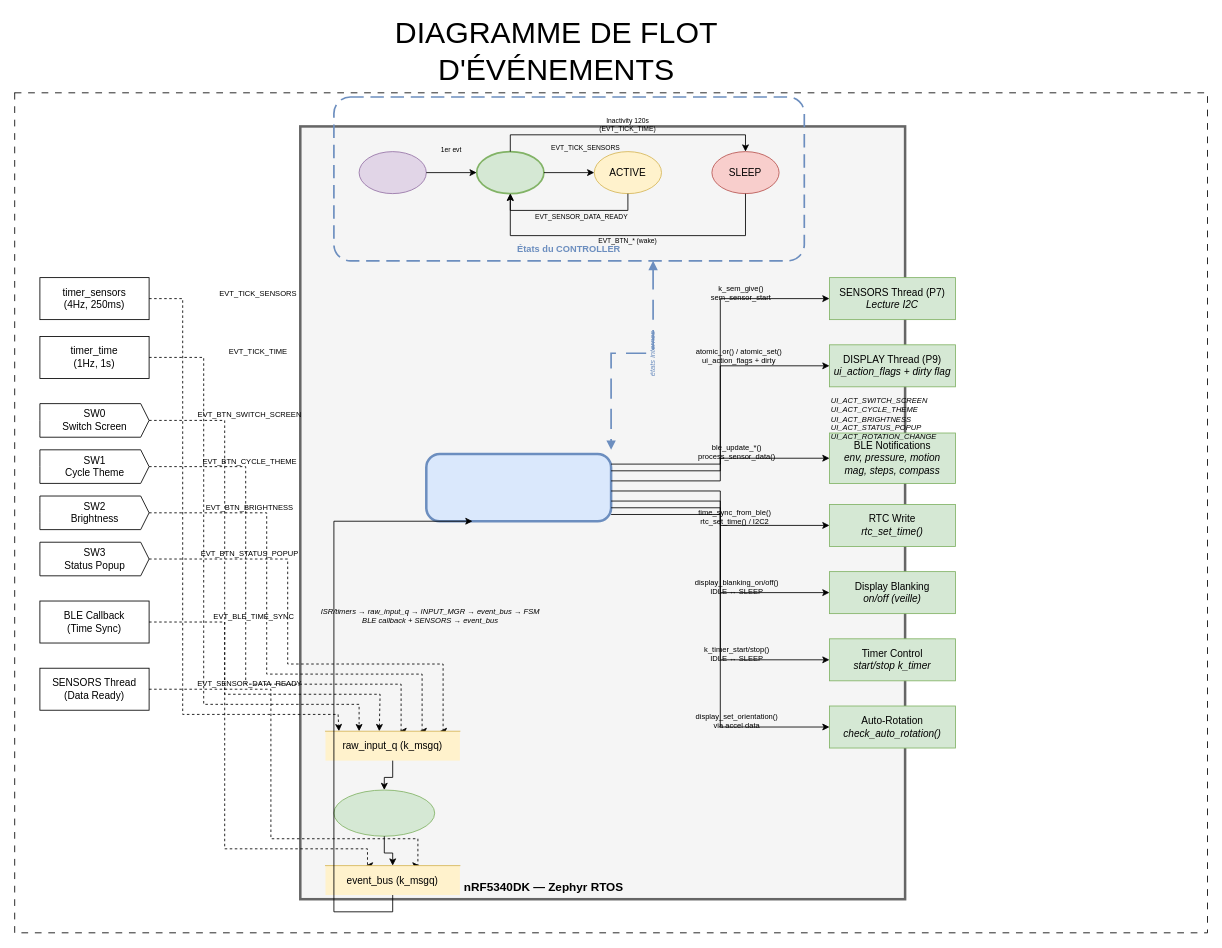
The diagram is 1222 pixels wide and 948 high, and some of its shapes have lost their labels. The centre of each missing label's shape, as x and y in pixels:
IDLE: (509,172)
INIT: (392,172)
INPUT_MGR (P3): (384,812)
MACHINE D'ÉTATS (CONTROLLER Thread P5) alimentée via event_bus: (518,487)
